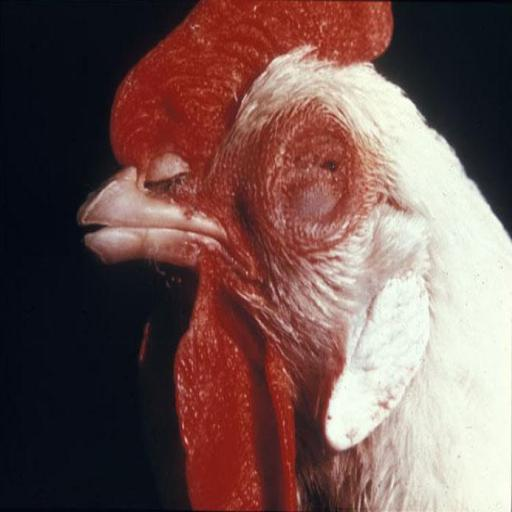disease: (247, 88, 367, 225)
